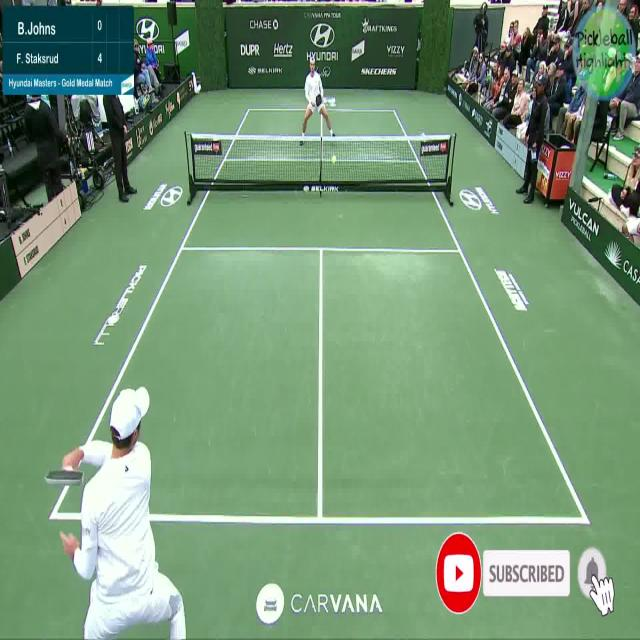ball: (332, 154, 336, 164)
